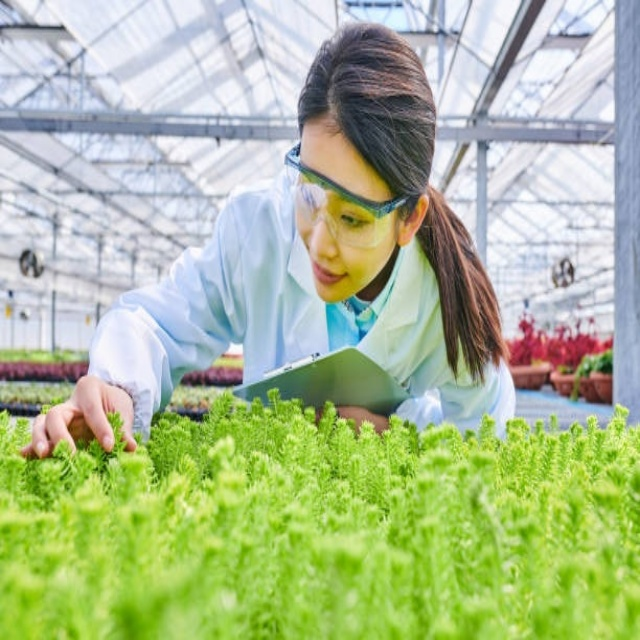Gafas: (287, 143, 412, 247)
Sin_guantes: (21, 375, 146, 471)
Sin_mascara: (305, 248, 359, 298)
